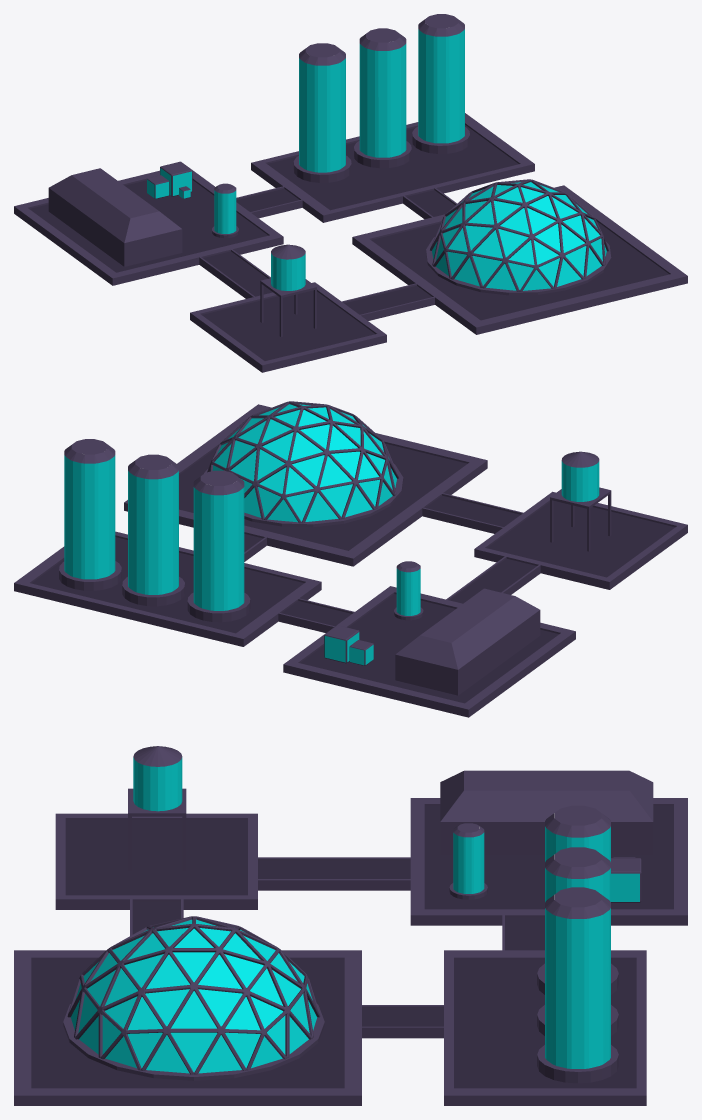
The picture shows the model from 3 angles, top to bottom: view 1: azimuth 30°, elevation 25°; view 2: azimuth 150°, elevation 25°; view 3: azimuth 270°, elevation 25°; orthographic projection. The views are drawn at different scales.
Visible parts, largest first — view 1: base; view 2: base; view 3: base.
Part boxes in pixels (x1,y1,x2,y2): base: (14, 14, 687, 372); base: (14, 401, 687, 717); base: (14, 746, 687, 1105).
Bounding box in the file's own units: 20.35 × 5.67 × 19.49.
